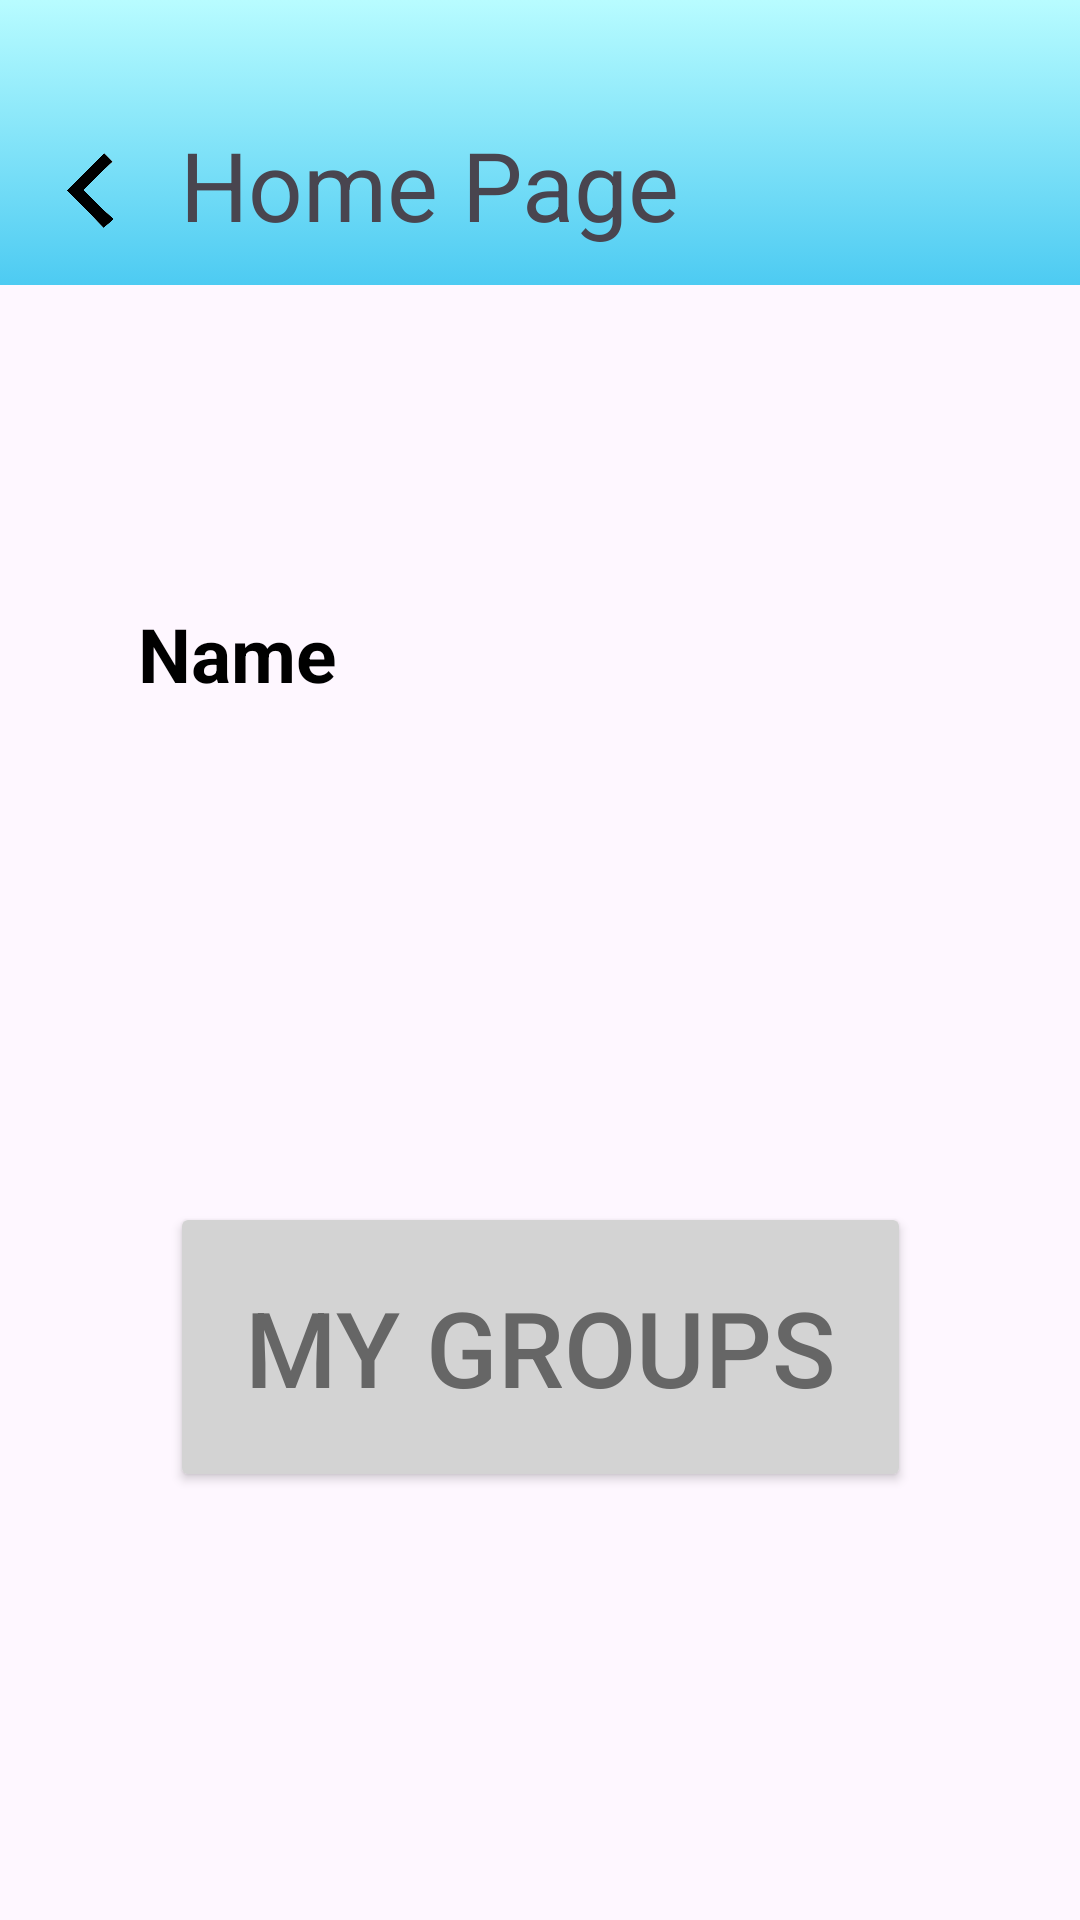

Screen size 1080px×1920px. Icon name, then its center in pixels as (x,y):
back arrow: (90,202)
